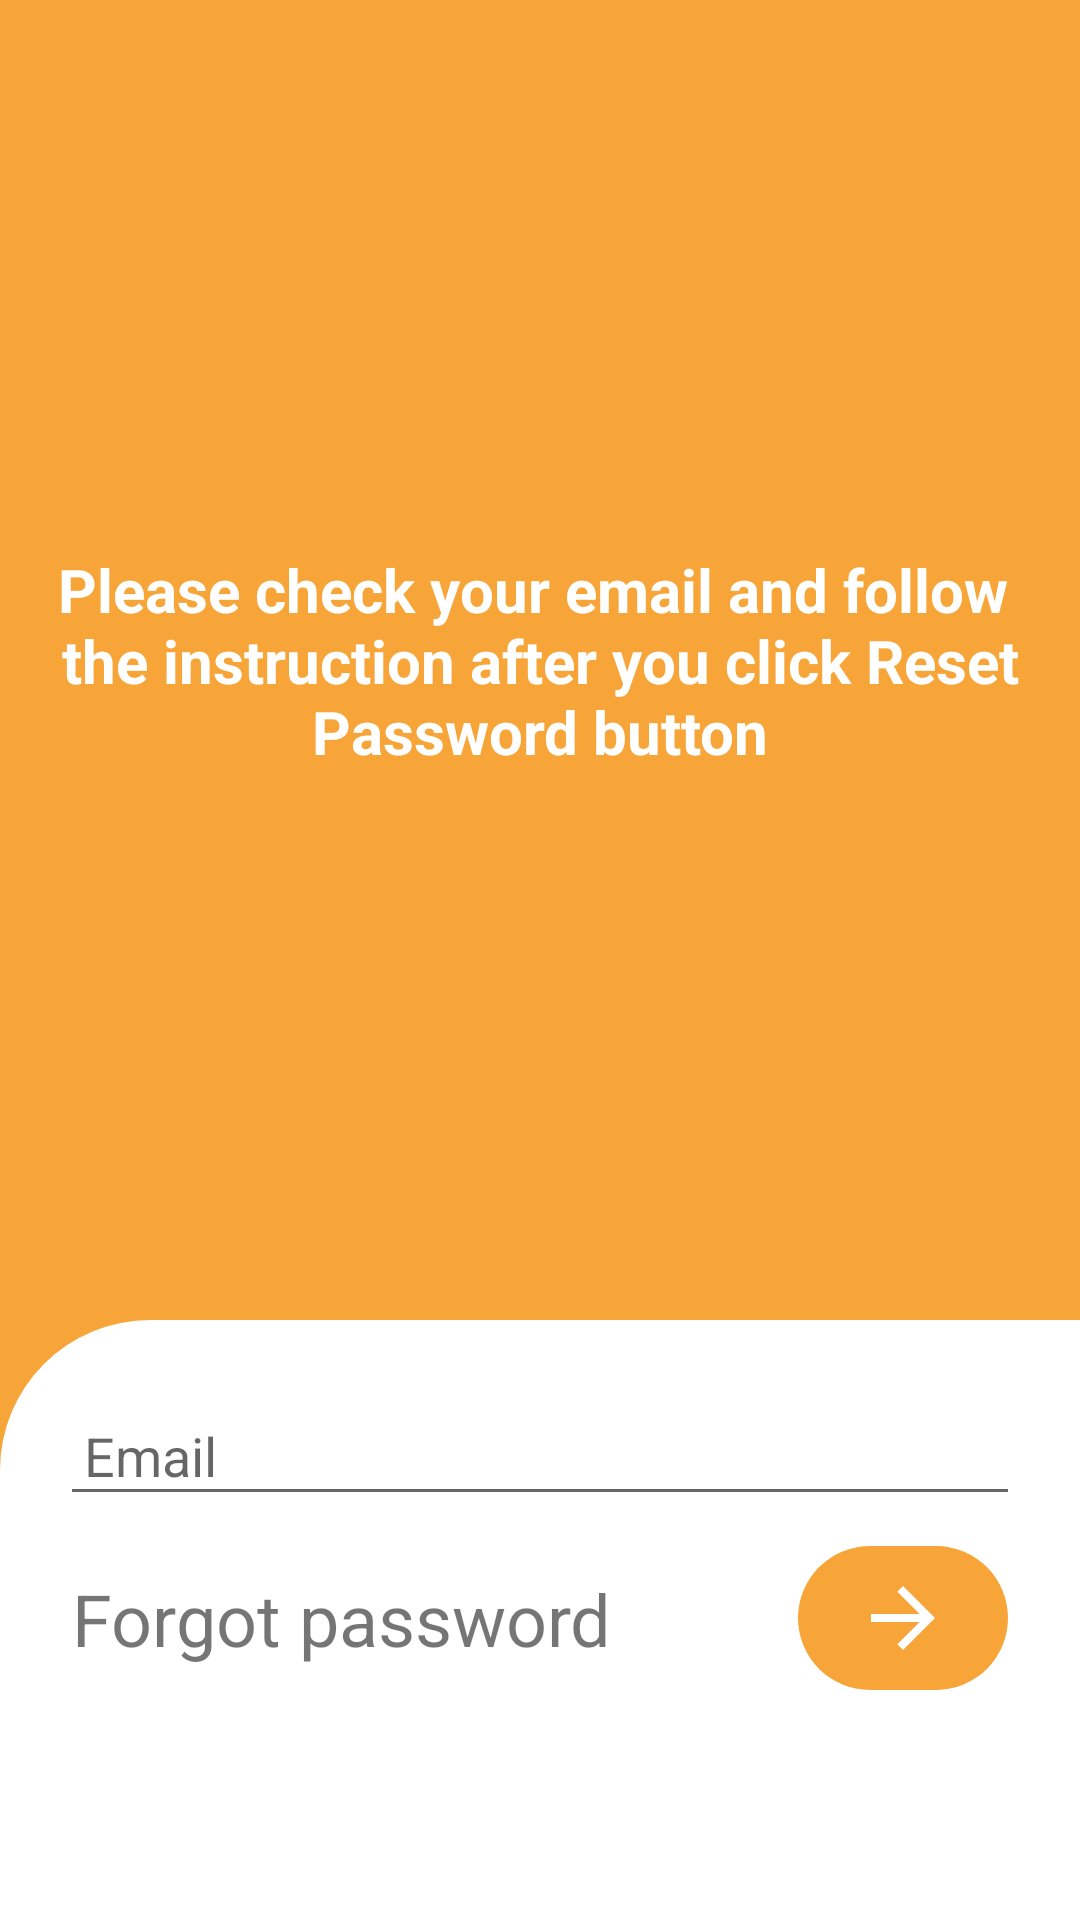

Screen size 1080×1920. Icon name, then its box in pixels as (x1, y1, x2, y2):
arrow: (798, 1546, 1008, 1690)
